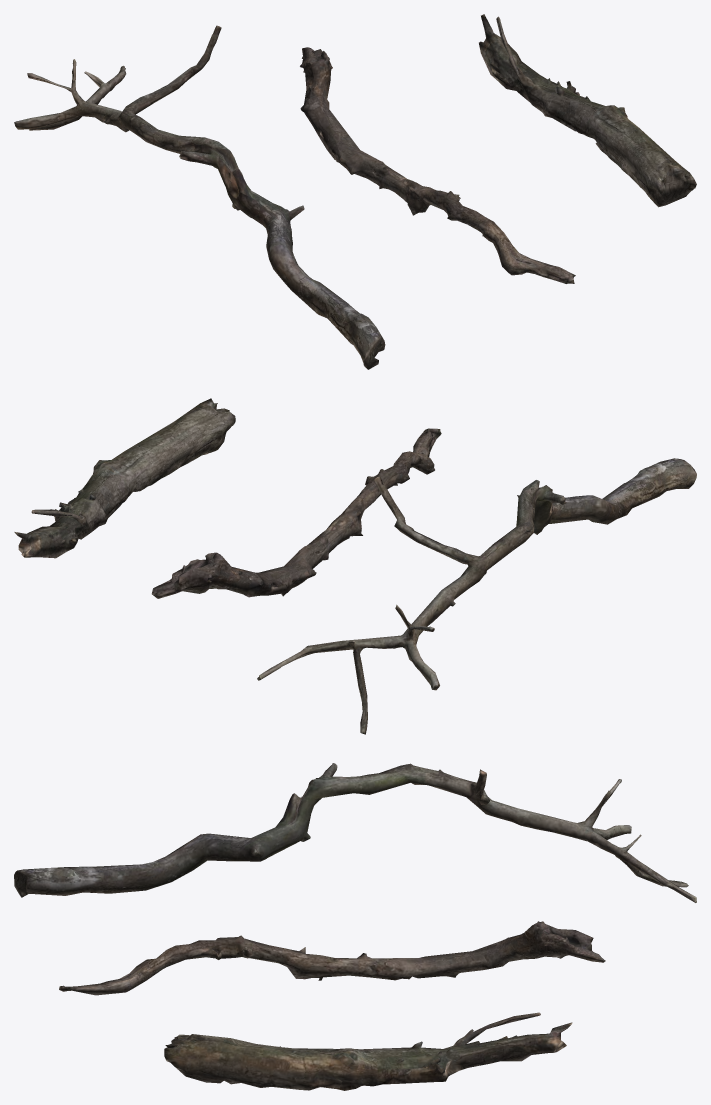
Rendered from dry_branches_medium_01.glb.
The picture shows the model from 3 angles, top to bottom: view 1: azimuth 30°, elevation 25°; view 2: azimuth 150°, elevation 25°; view 3: azimuth 270°, elevation 25°; orthographic projection. The views are drawn at different scales.
Parts seen in each view (by area): view 1: dry_branches_medium_01_c; view 2: dry_branches_medium_01_c; view 3: dry_branches_medium_01_c.
Boxes of the visible parts, left/top/right/bottom form: dry_branches_medium_01_c: left=14, top=14, right=696, bottom=369; dry_branches_medium_01_c: left=14, top=398, right=696, bottom=734; dry_branches_medium_01_c: left=14, top=763, right=696, bottom=1090.
Bounding box in the file's own units: 1.06 × 0.3401 × 1.3.
1 material, 1 textured.
